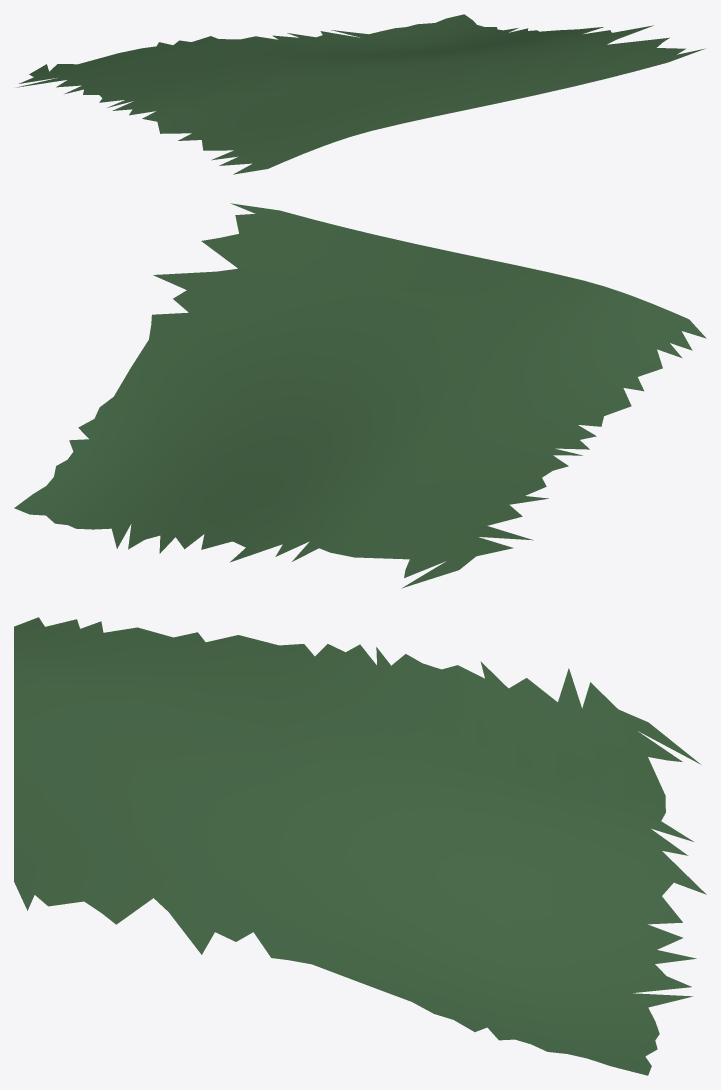
The model's file is payo_land_x3_y10.glb.
3 renders of one model, top to bottom at view 1: azimuth 30°, elevation 25°; view 2: azimuth 150°, elevation 25°; view 3: azimuth 270°, elevation 25°, orthographic. The views are drawn at different scales.
Visible parts, largest first — view 1: payo_land_x3_y10; view 2: payo_land_x3_y10; view 3: payo_land_x3_y10.
Boxes of the visible parts, x1,y1,x2,y2 form: payo_land_x3_y10: (16, 14, 704, 174); payo_land_x3_y10: (14, 203, 706, 588); payo_land_x3_y10: (14, 617, 706, 1075).
Bounding box in the file's own units: 295 × 74.55 × 255.
